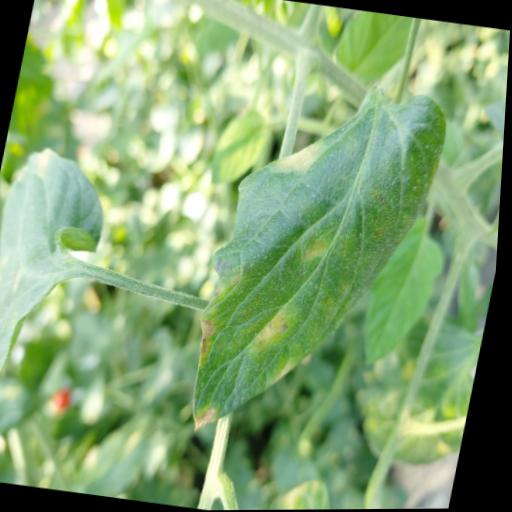Leaf Mold: (181, 69, 456, 458)
